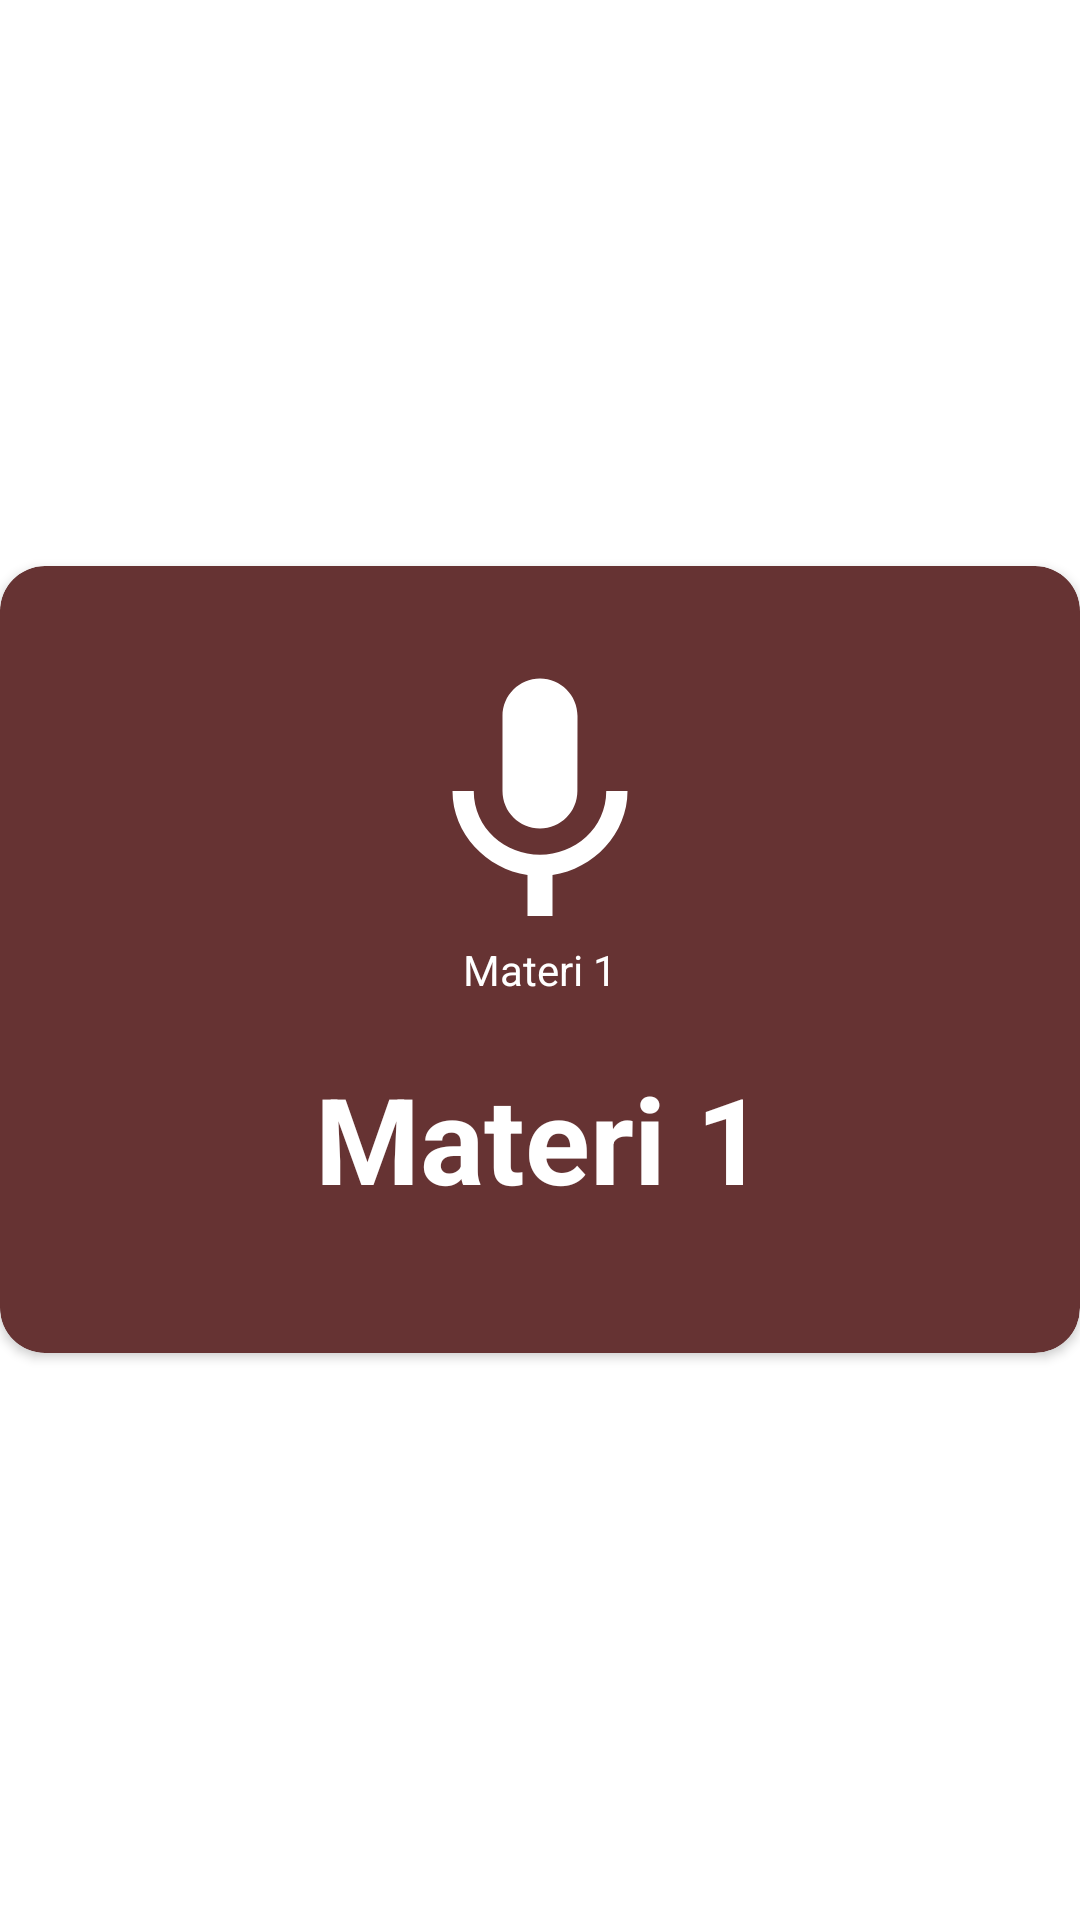

Icons on this 1080w x 1920h Android screen, each with its box as [x1, y1, x2, y2]:
voice: [452, 678, 628, 916]
